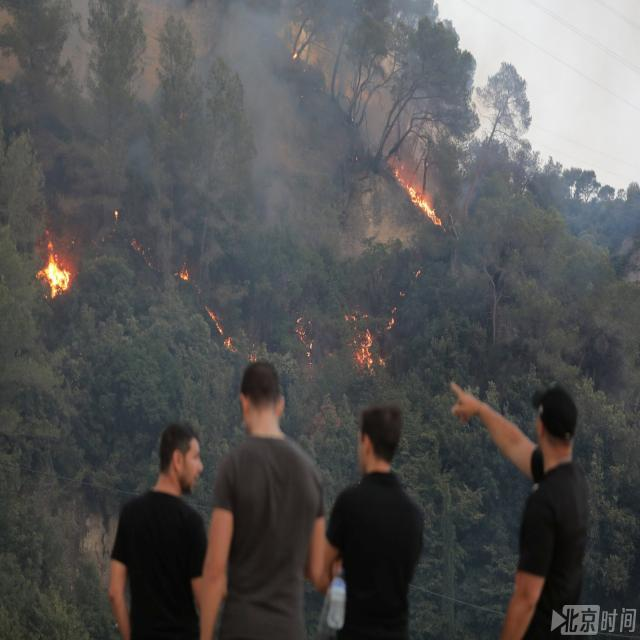Fire: (342, 289, 406, 376), (391, 164, 442, 228), (33, 228, 73, 298), (203, 304, 238, 356), (292, 314, 314, 358), (130, 236, 152, 268), (172, 260, 190, 282)
Smoke: (1, 1, 437, 222)
